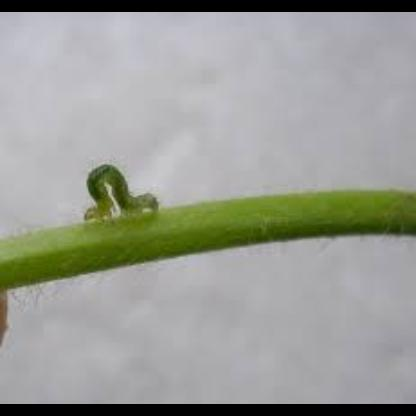oruga: (72, 160, 164, 218)
